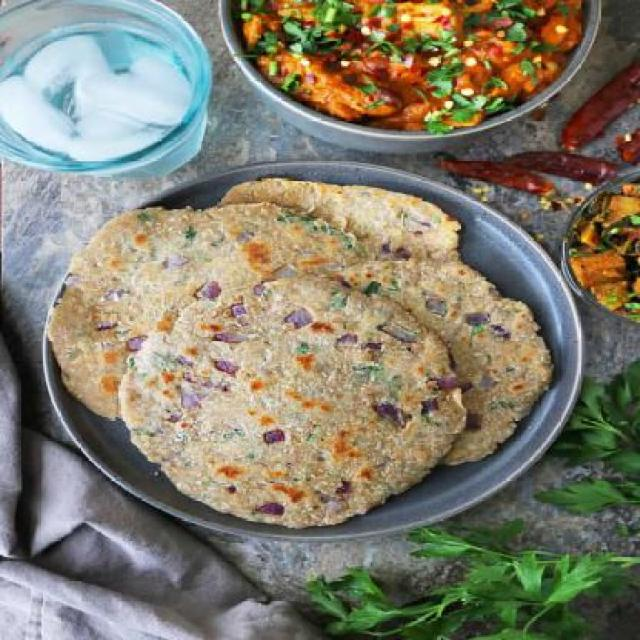chapati: (119, 276, 467, 526), (49, 206, 360, 414), (344, 263, 559, 465), (218, 177, 460, 263)
